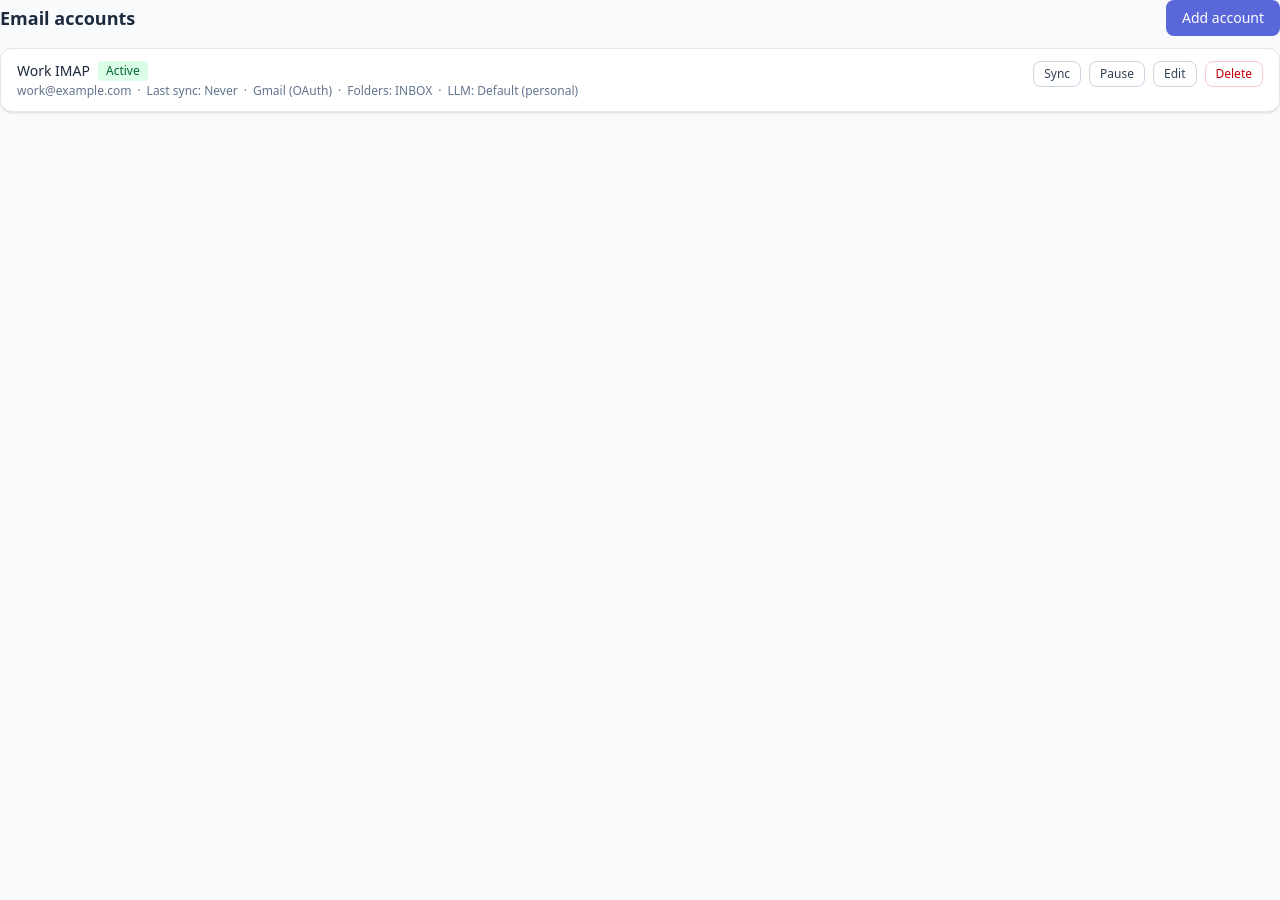
Test case: Gmail folders › shows label-fetch failures with a retry control
What coordinates should you click on to do the following:
click the button "Edit"
I would click on:
 (1175, 74)
Its box is [1153, 61, 1196, 87].
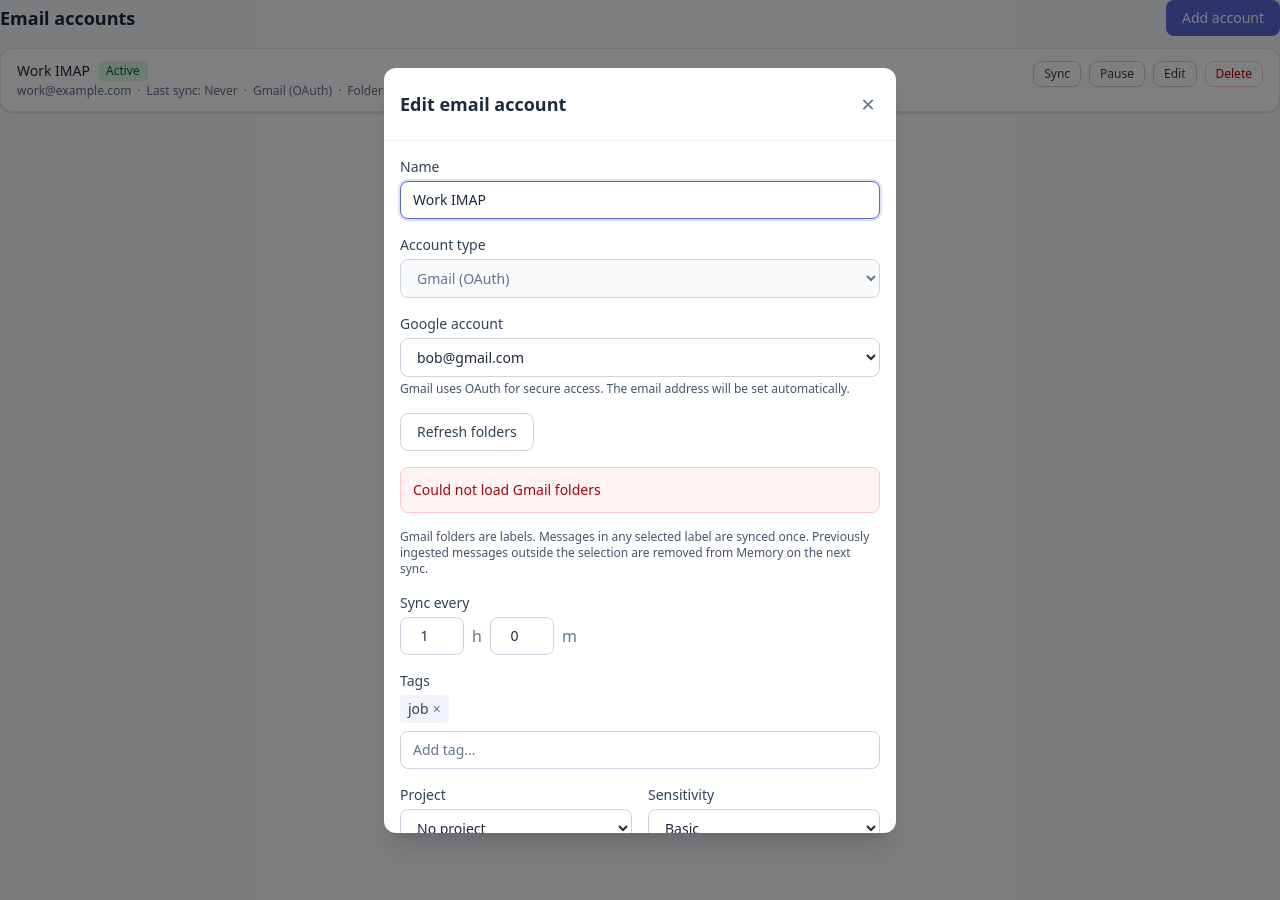
Check: the text "Could not load Gmail folders" is shown, box [413, 480, 601, 500]
Check: the button "Refresh folders" is enabled, box [400, 412, 534, 450]
